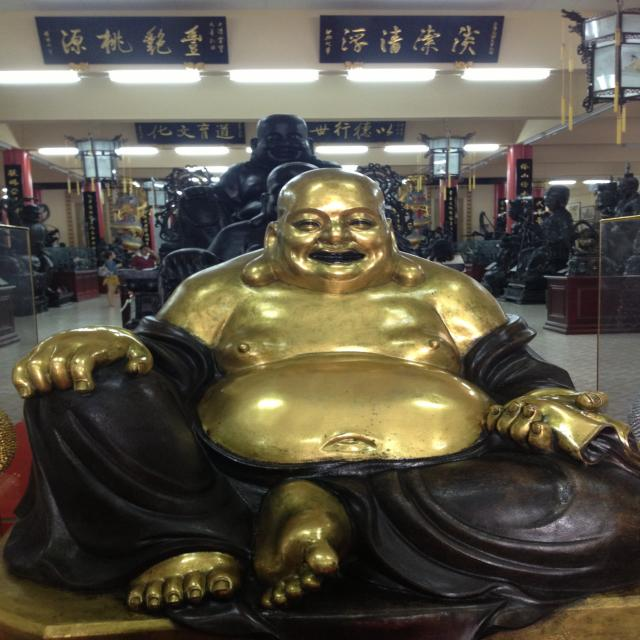Smiling Buddha: (168, 168, 503, 494)
